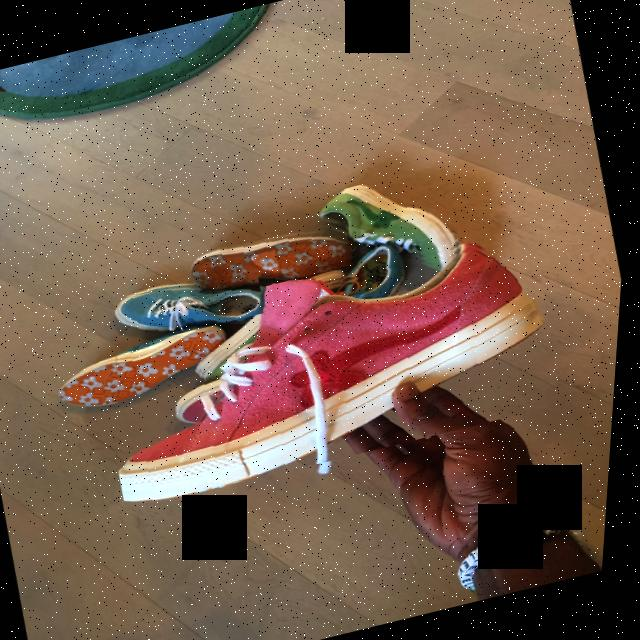shoe: (89, 228, 581, 511), (313, 163, 469, 284), (186, 214, 359, 304), (58, 326, 228, 415), (105, 264, 272, 349)
